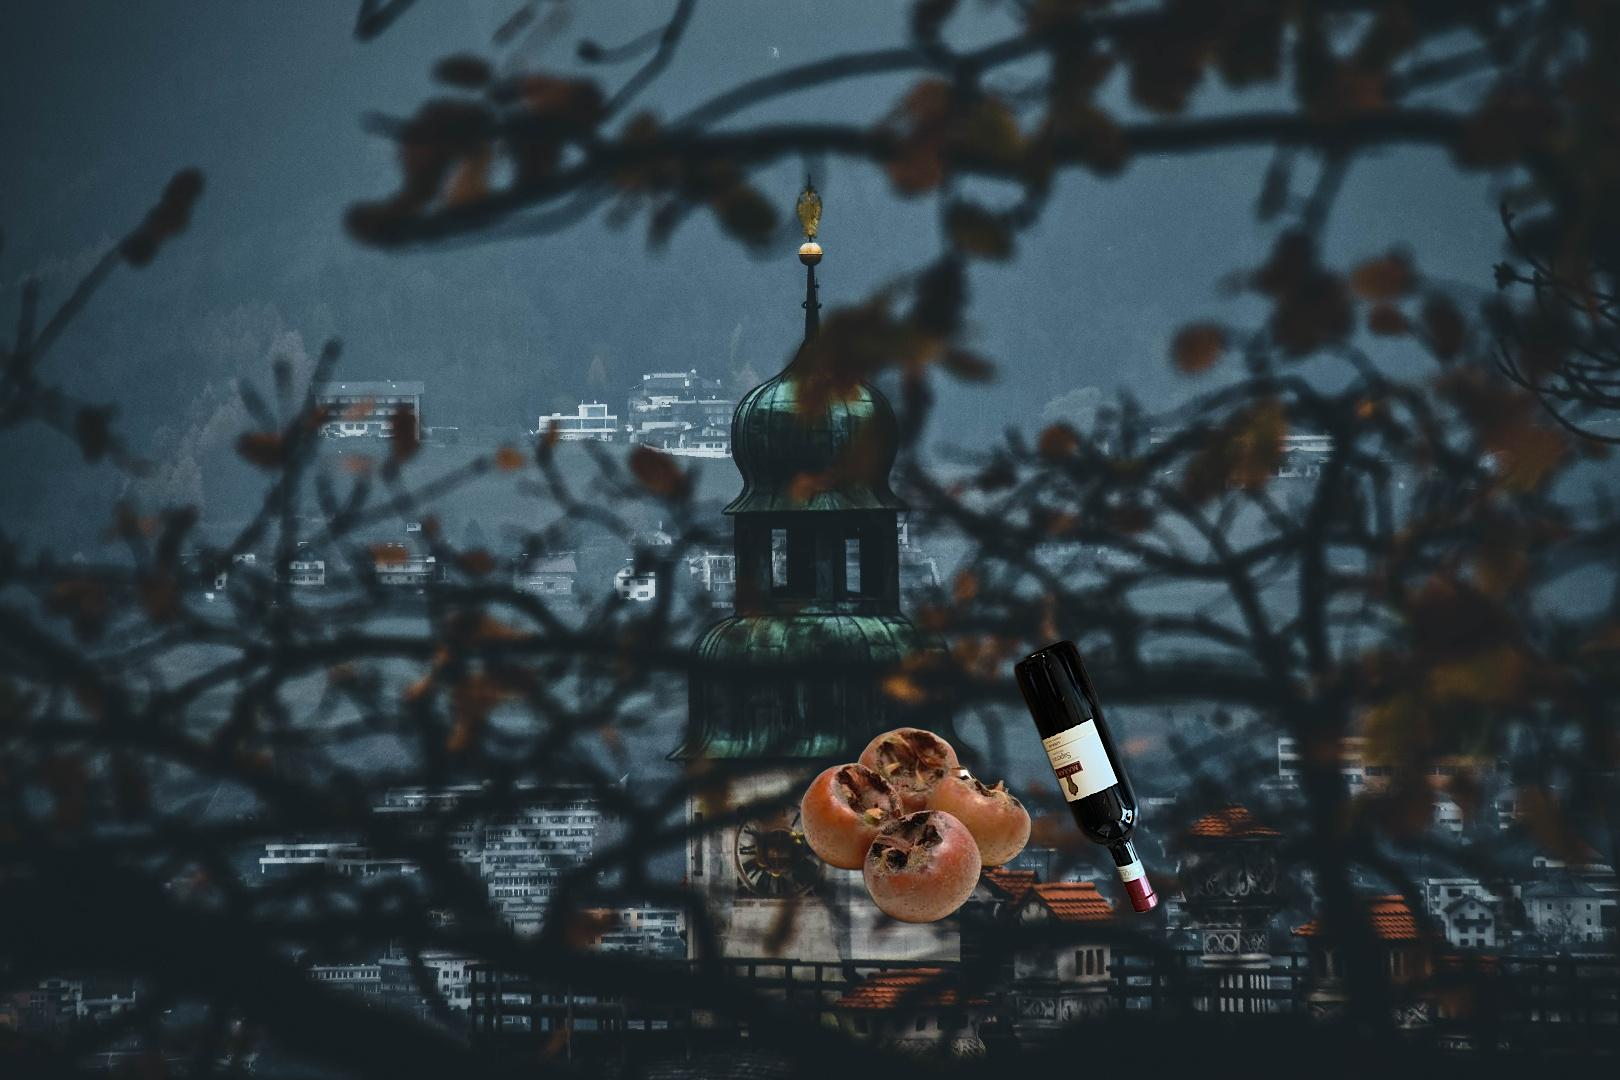biological: (797, 724, 1034, 925)
glass: (1010, 634, 1164, 918)
